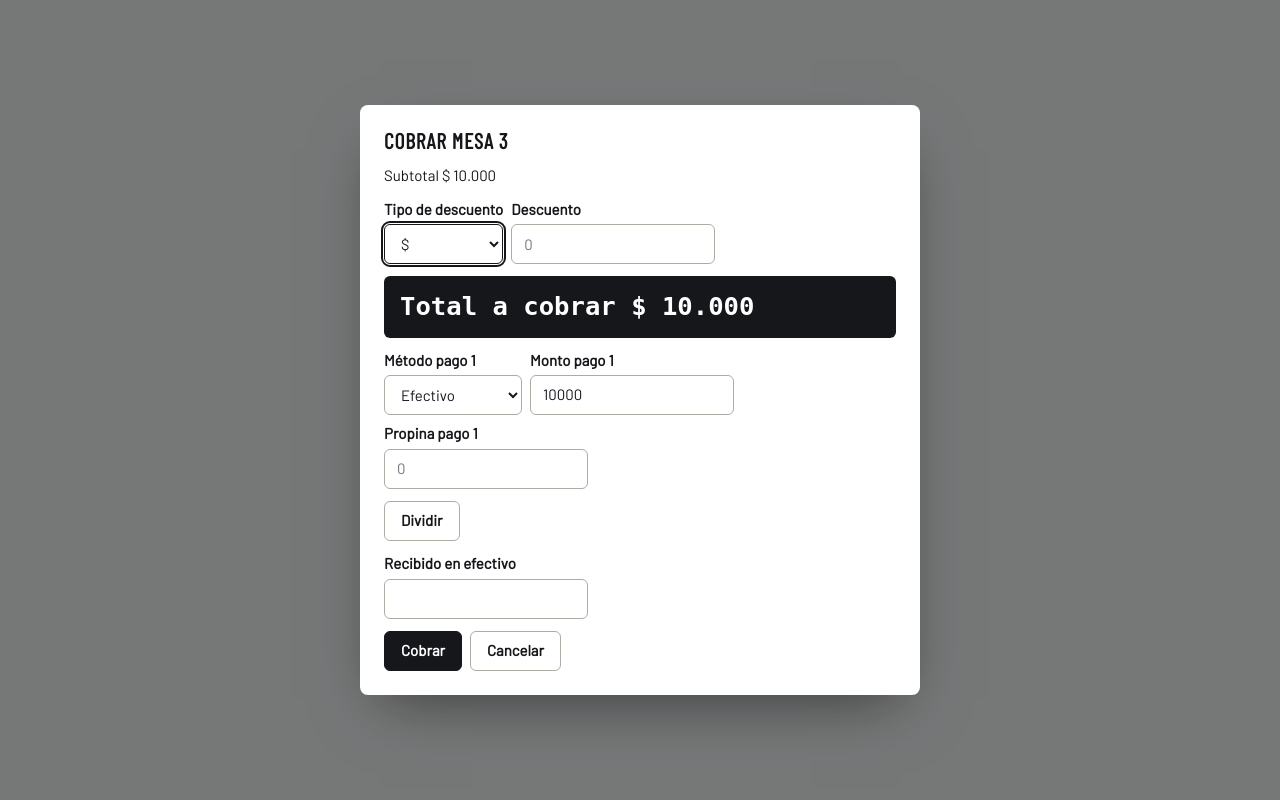
it: un descuento del 10 % baja el total y pide motivo
Later steps or results of the test are not shown.
Select "%" in the dropdown labelled "Tipo de descuento" at (444,244), box [384, 224, 503, 264]
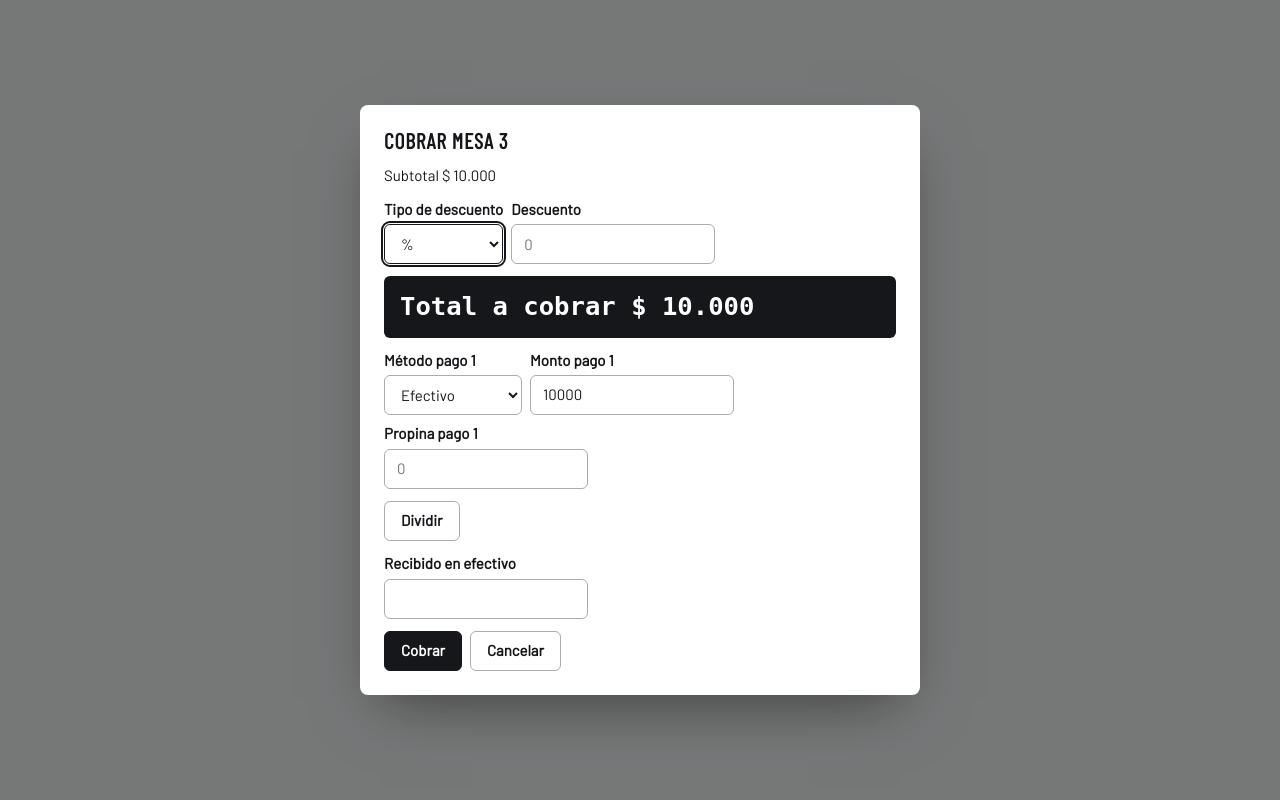
Type "10" into the field labelled "Descuento" at (613,244), box [511, 224, 715, 264]
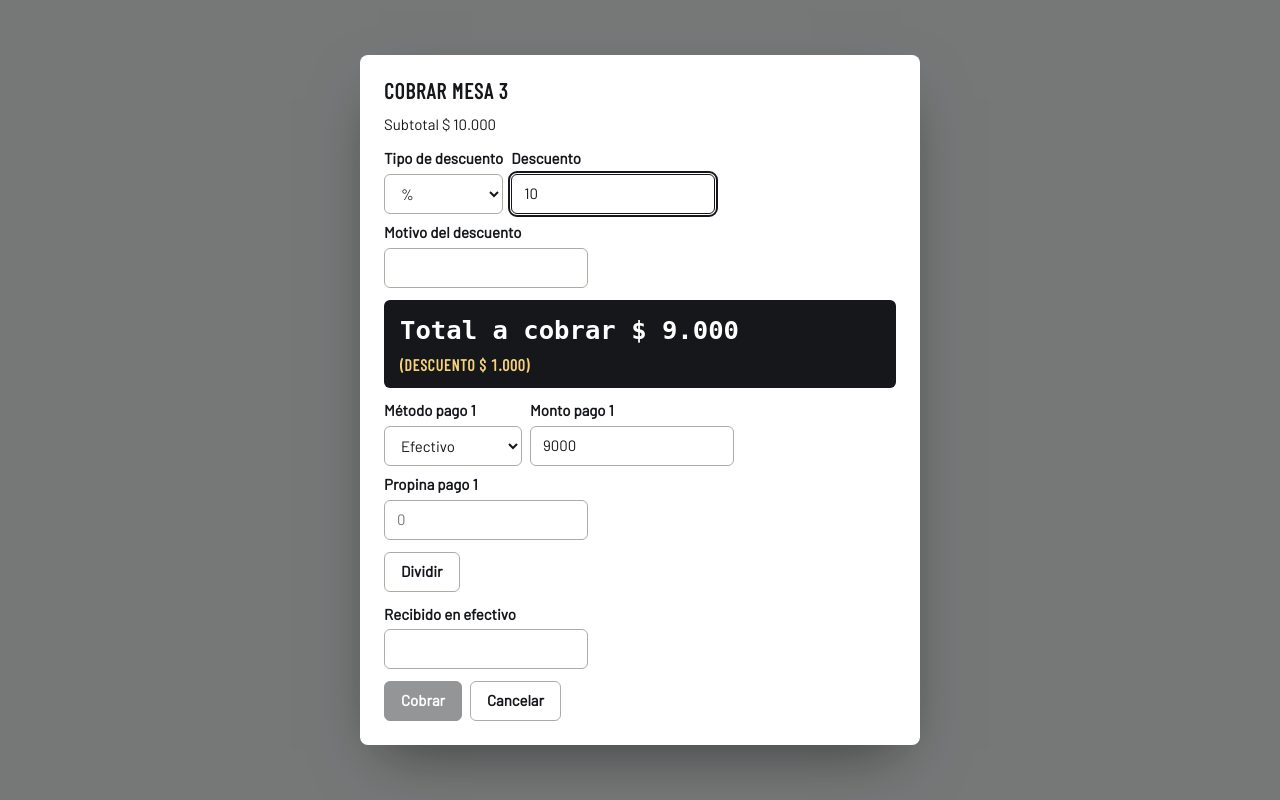
Expected: the text "Total a cobrar $ 9.000" is shown, [400, 312, 739, 349]
Expected: the field labelled "Monto pago 1" holds "9000", [530, 426, 734, 466]
Expected: the button "Cobrar" is disabled, [384, 681, 462, 721]
